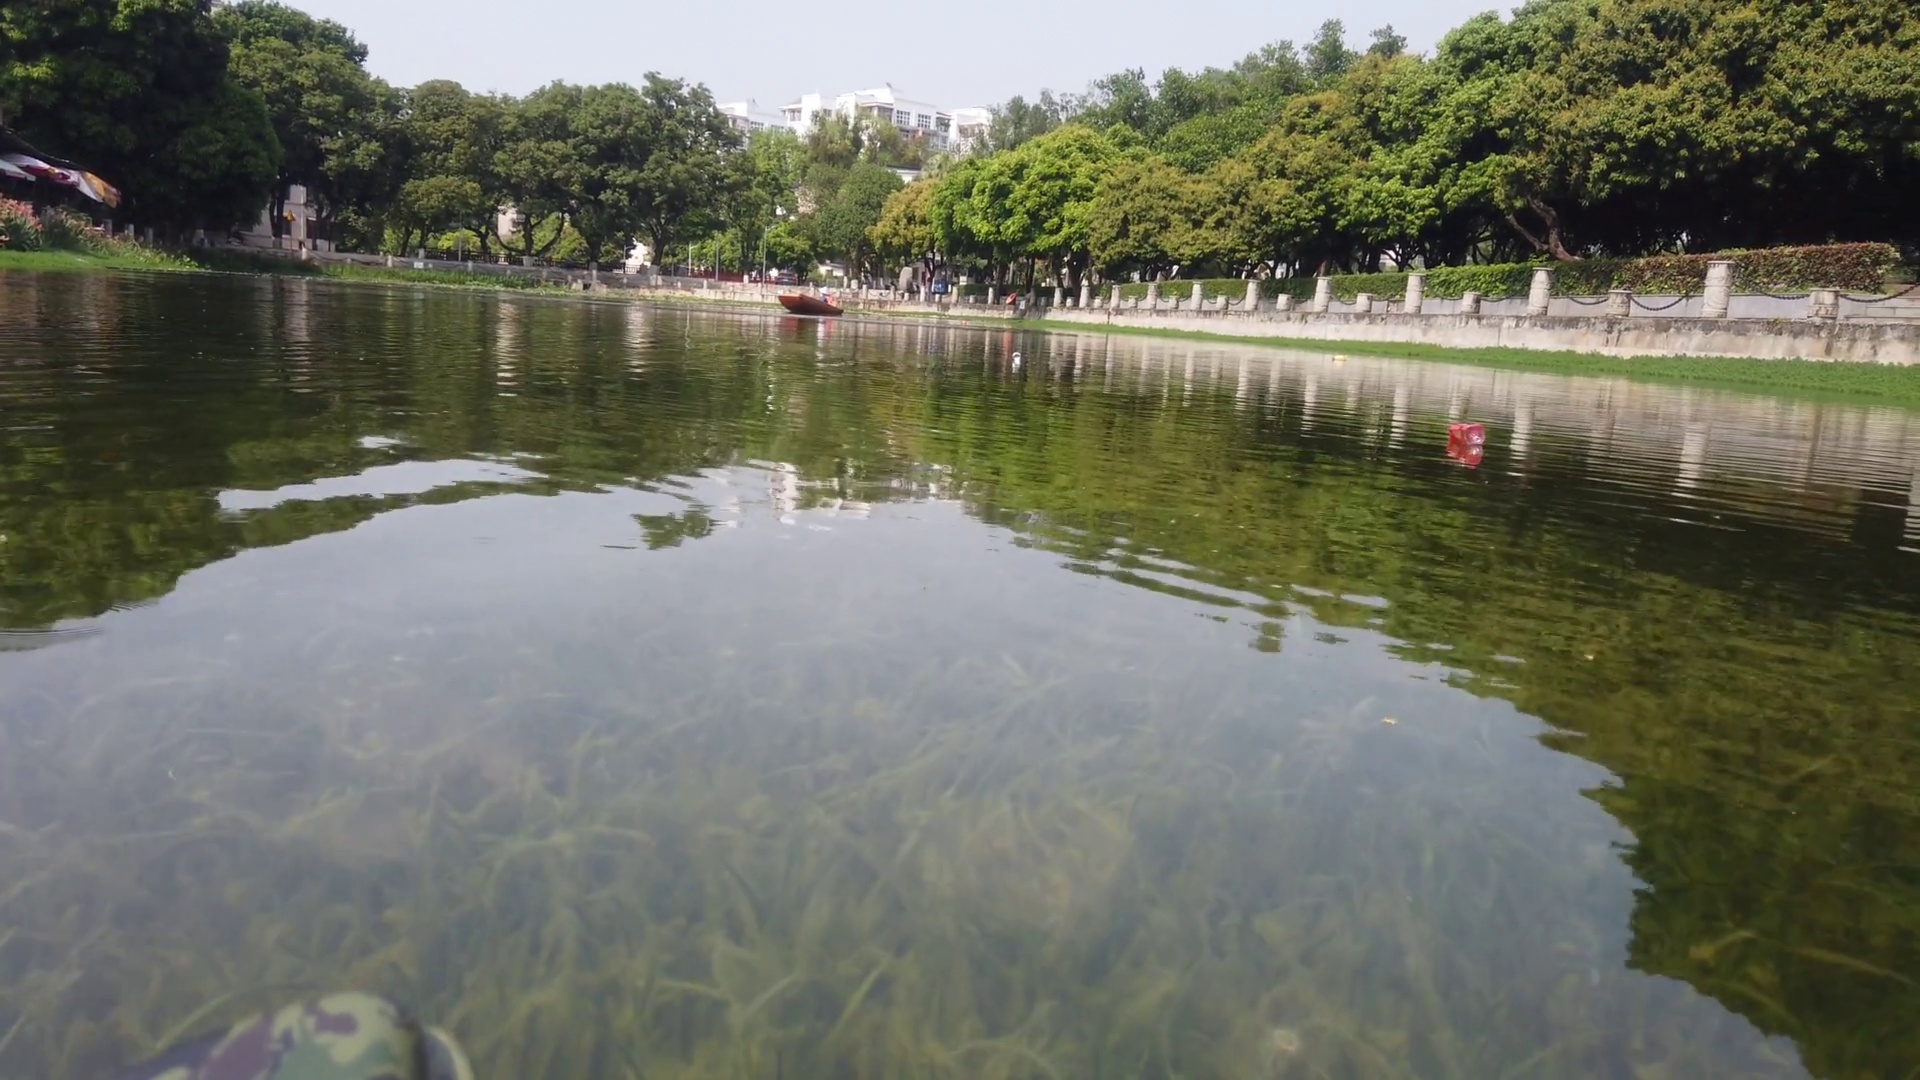bottle: (1451, 421, 1487, 447), (1333, 353, 1346, 364), (1011, 348, 1022, 360)
